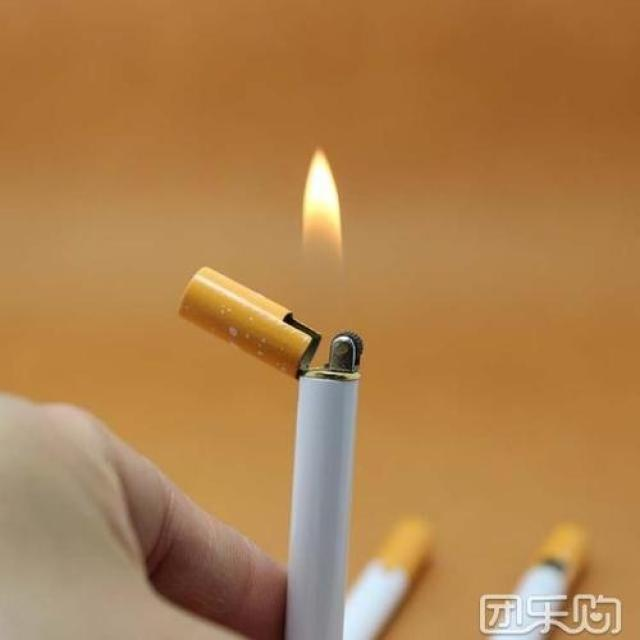Fire: (302, 148, 343, 248)
